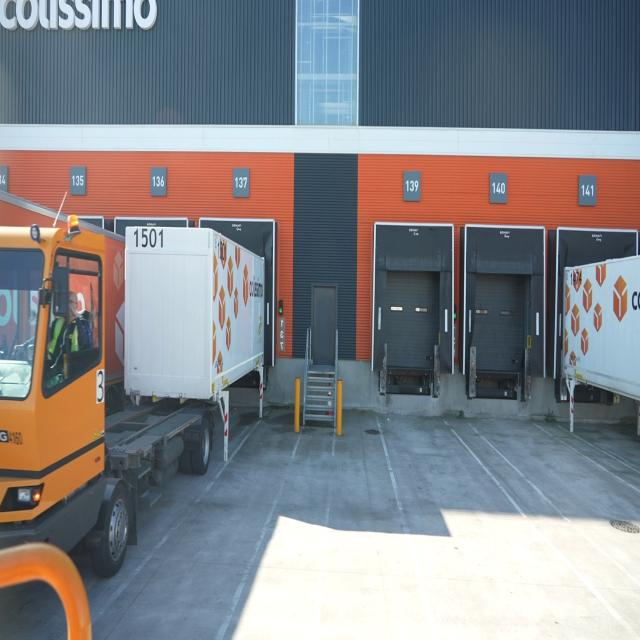Code: (127, 227, 167, 254), (566, 268, 586, 291)
